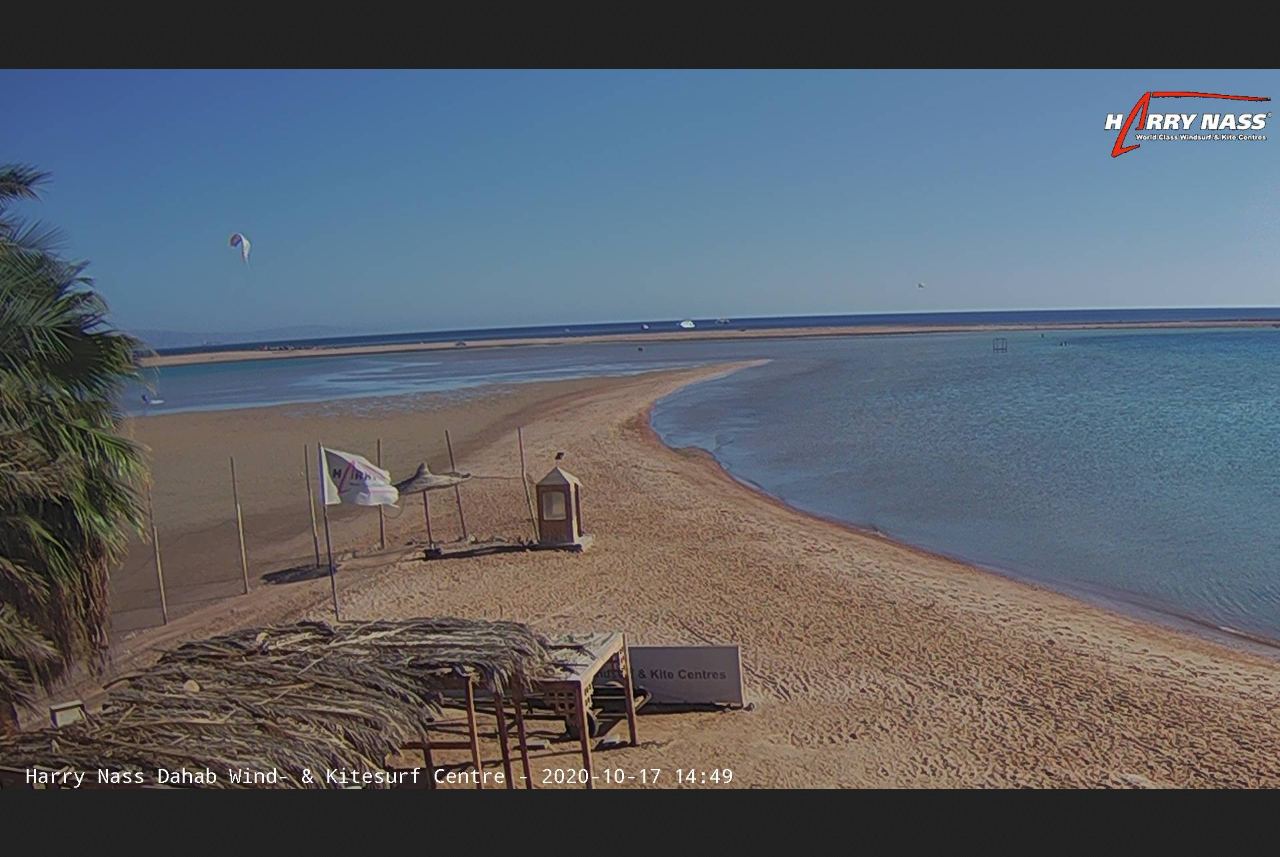yes: (315, 436, 410, 512)
